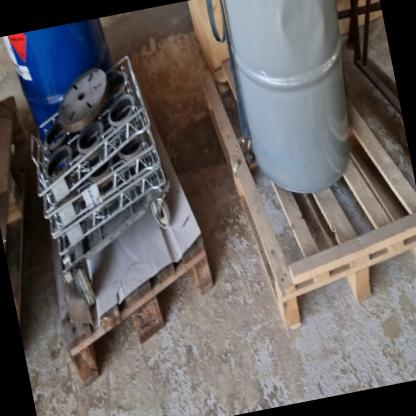BoxFace: (198, 57, 416, 333), (68, 238, 213, 389)
